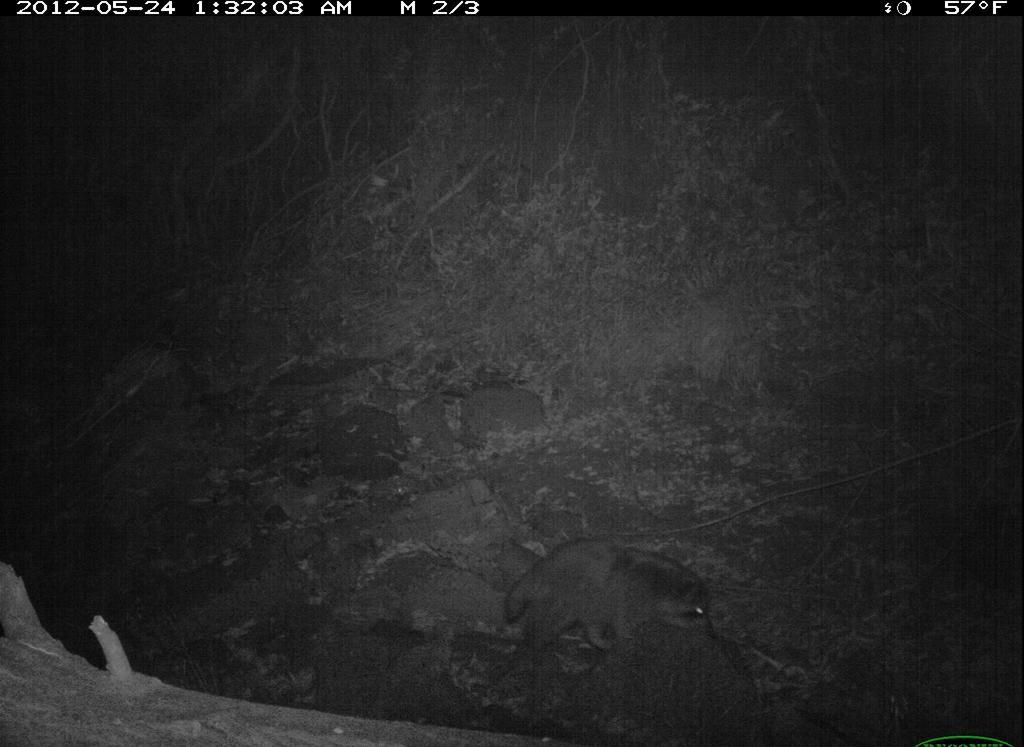raccoon: (500, 532, 720, 649)
